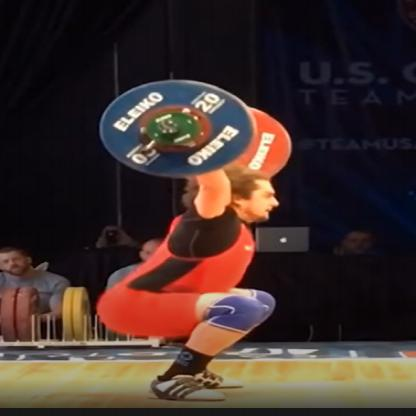Barbell: (97, 75, 259, 182)
